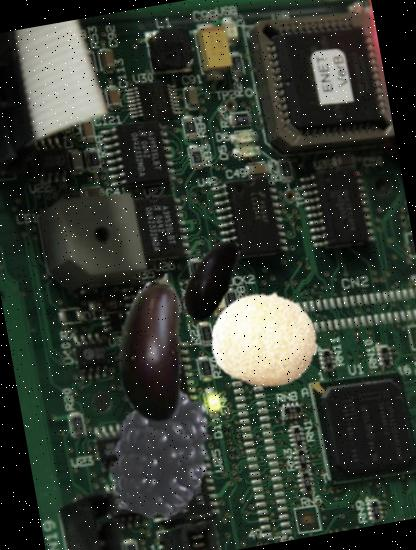Cantaloupe: (204, 276, 326, 400)
Eggplant: (67, 264, 240, 437), (160, 227, 264, 332)
Mulberry: (86, 375, 238, 528)
